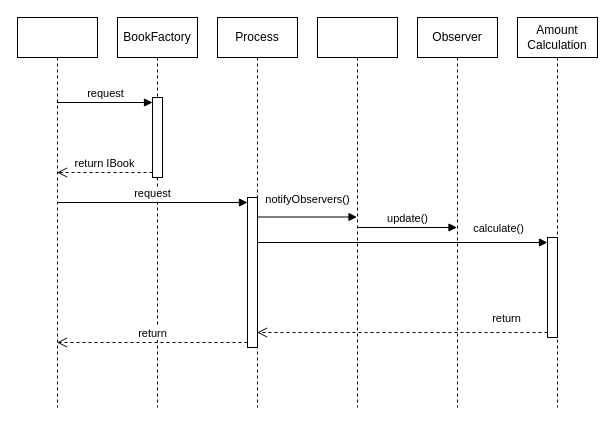
The diagram is 615 pixels wide and 425 high, and some of its shapes have lost their labels. The shapes that lost their labels are listed below. From the top down, each one's box as (x1, y1, x2, y2) in pixels, then its label:
(16, 16, 98, 408): Client
(316, 16, 398, 408): Notification Manager
